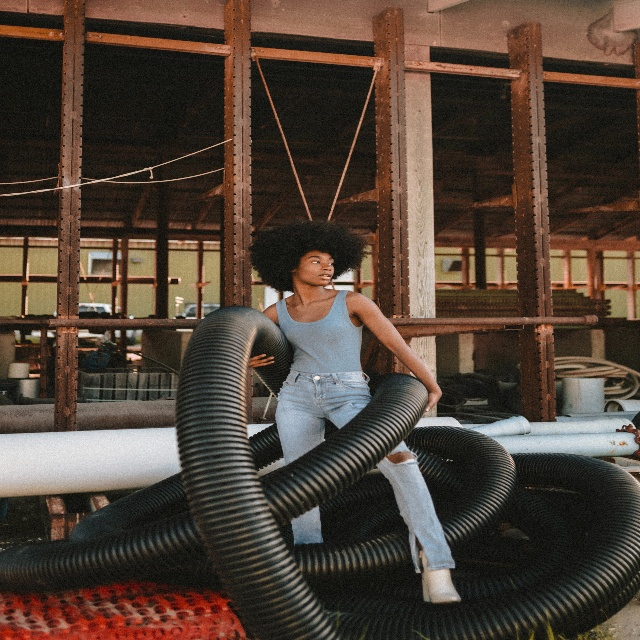Sin_guantes: (250, 351, 276, 377), (423, 387, 443, 412)
